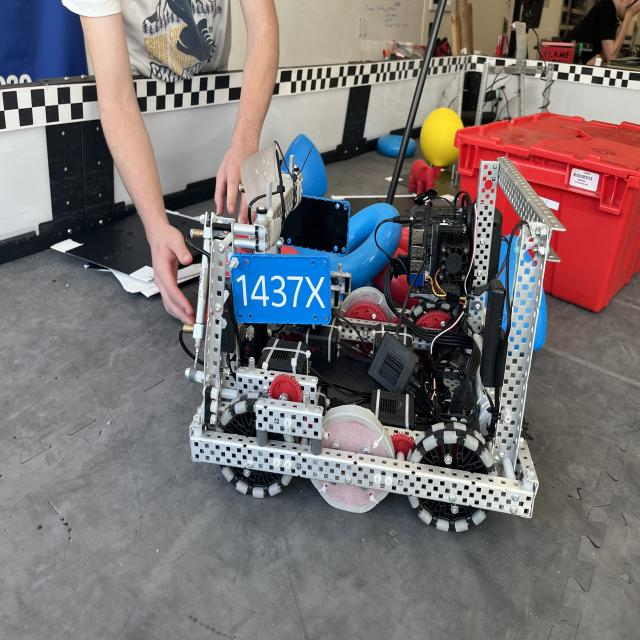Blue-Ring: (326, 203, 402, 290), (376, 135, 416, 158)
